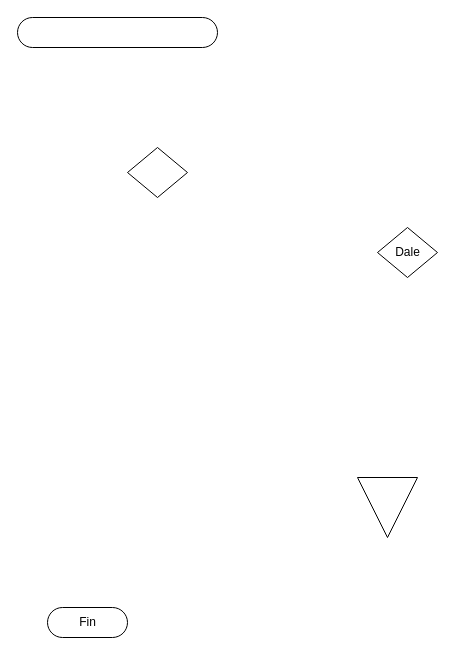
Image size: 455x655. Some labels were removed from this diagram. The box of each missing label's shape, as (x1, y1, x2, y2) in pixels:
./pipex q "cat" "head -n 5" qq: (16, 16, 218, 48)
Entrada de datos: (356, 476, 418, 538)
